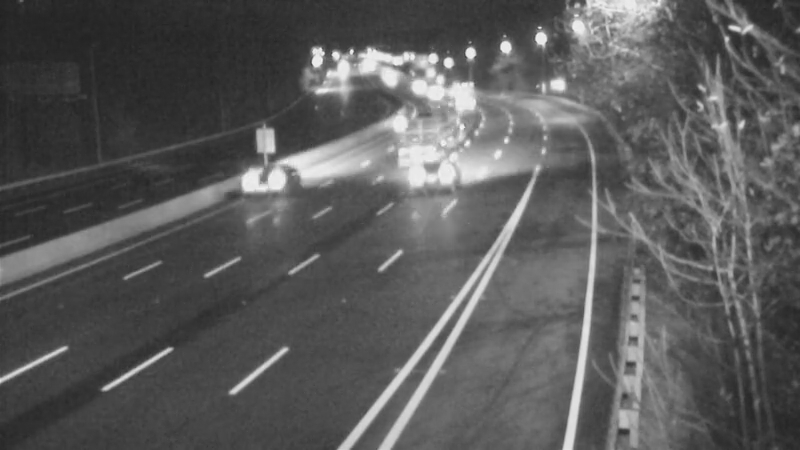vehicle: (405, 132, 485, 212), (243, 138, 323, 218), (388, 61, 438, 111), (405, 65, 455, 115), (441, 69, 491, 119), (395, 117, 445, 167), (374, 98, 424, 148)
